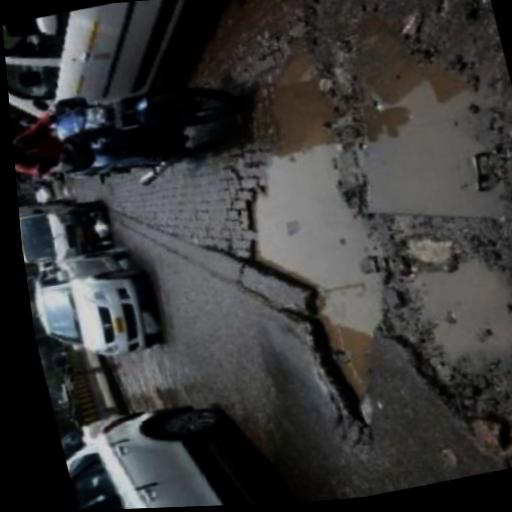pothole: (254, 36, 380, 426), (356, 17, 506, 218), (406, 239, 512, 379)
